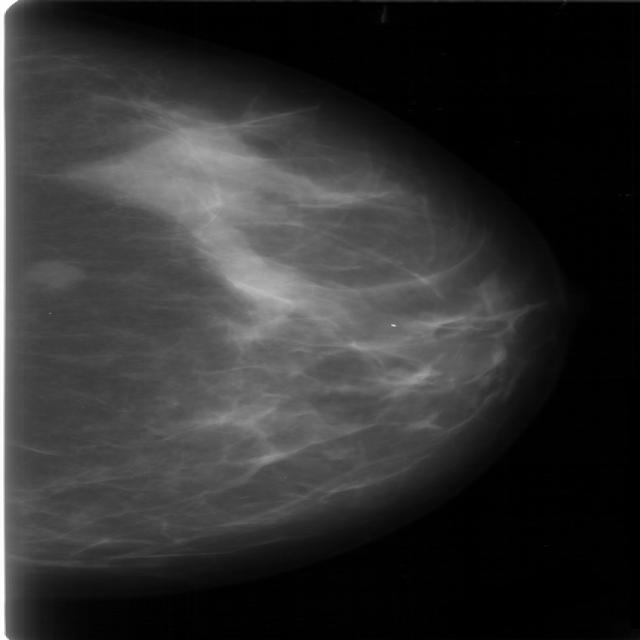tumour: (24, 259, 82, 287)
